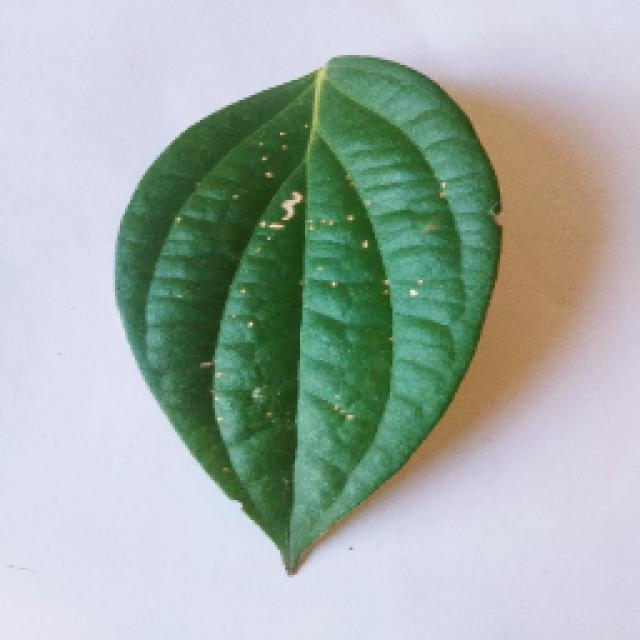pollu-disease: (110, 52, 498, 570)
